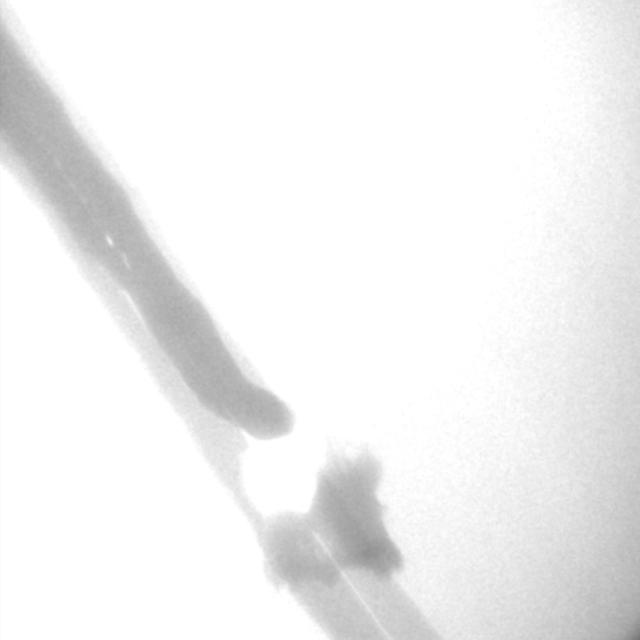air hole: (104, 233, 113, 247)
broken arc: (239, 425, 386, 637)
